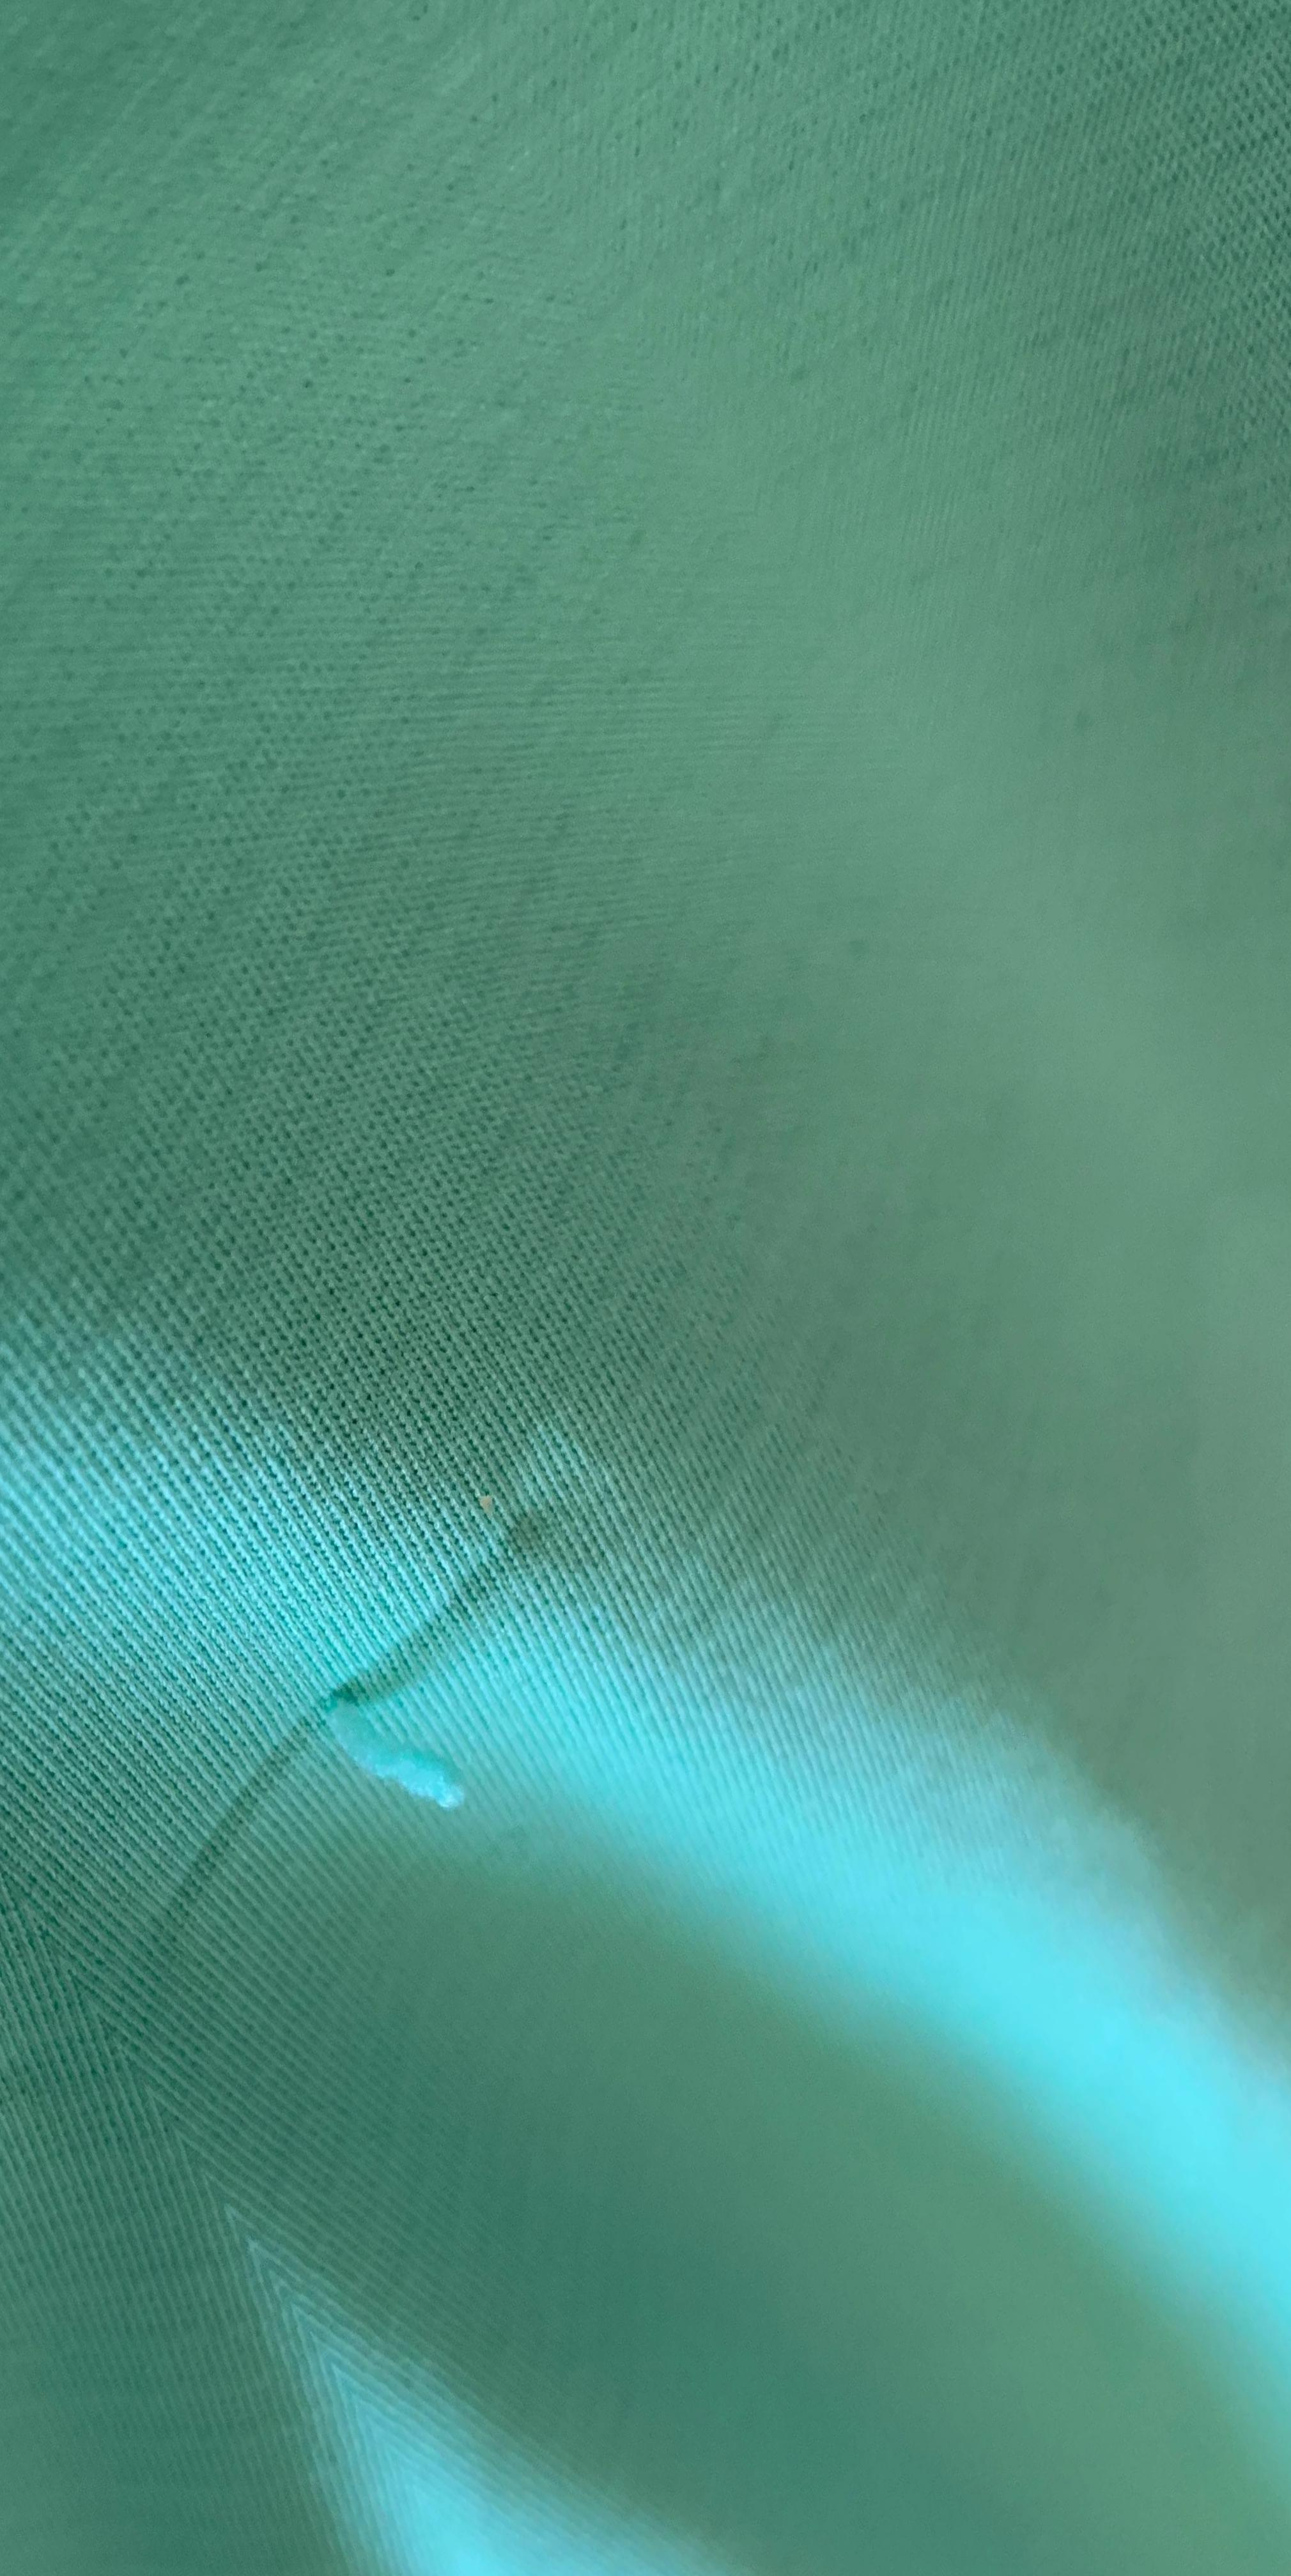snag: (244, 1600, 534, 1918)
